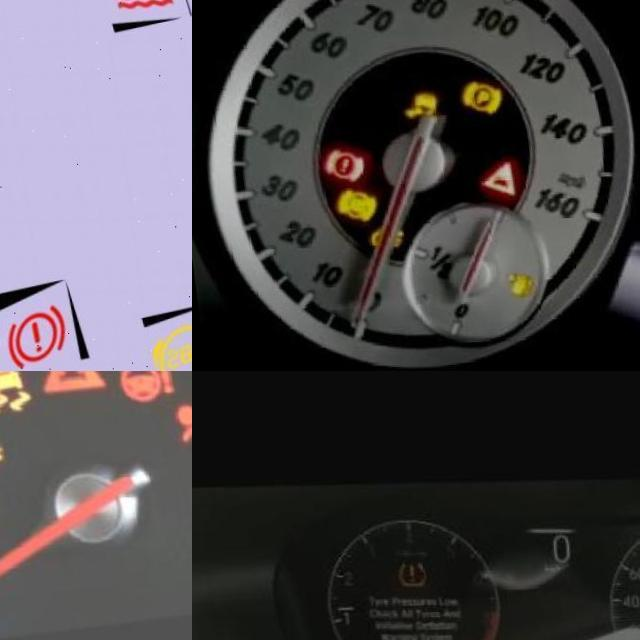Low fuel level: (504, 277, 535, 309)
